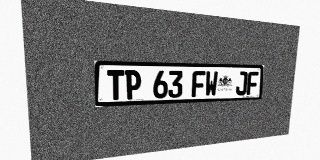3: (168, 71, 183, 98)
6: (153, 70, 168, 99)
F: (191, 71, 205, 97), (246, 71, 258, 95)
J: (235, 71, 248, 95)
P: (125, 70, 141, 100)
T: (107, 70, 124, 100)
W: (205, 71, 218, 97)
